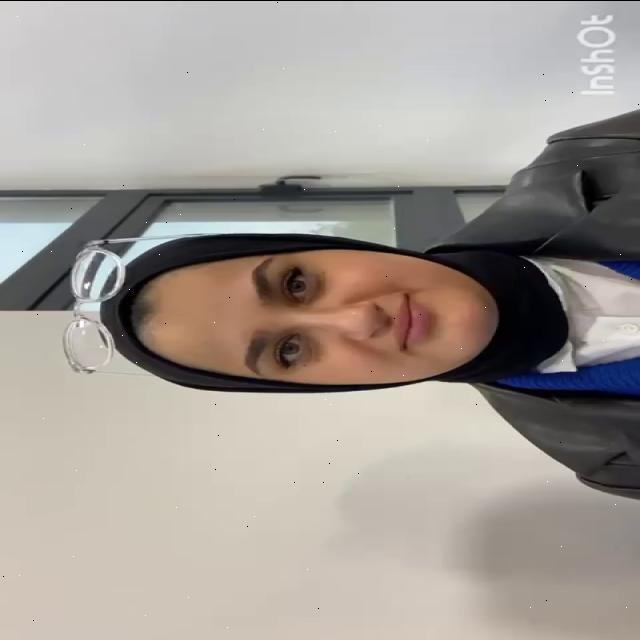happy: (151, 239, 493, 389)
